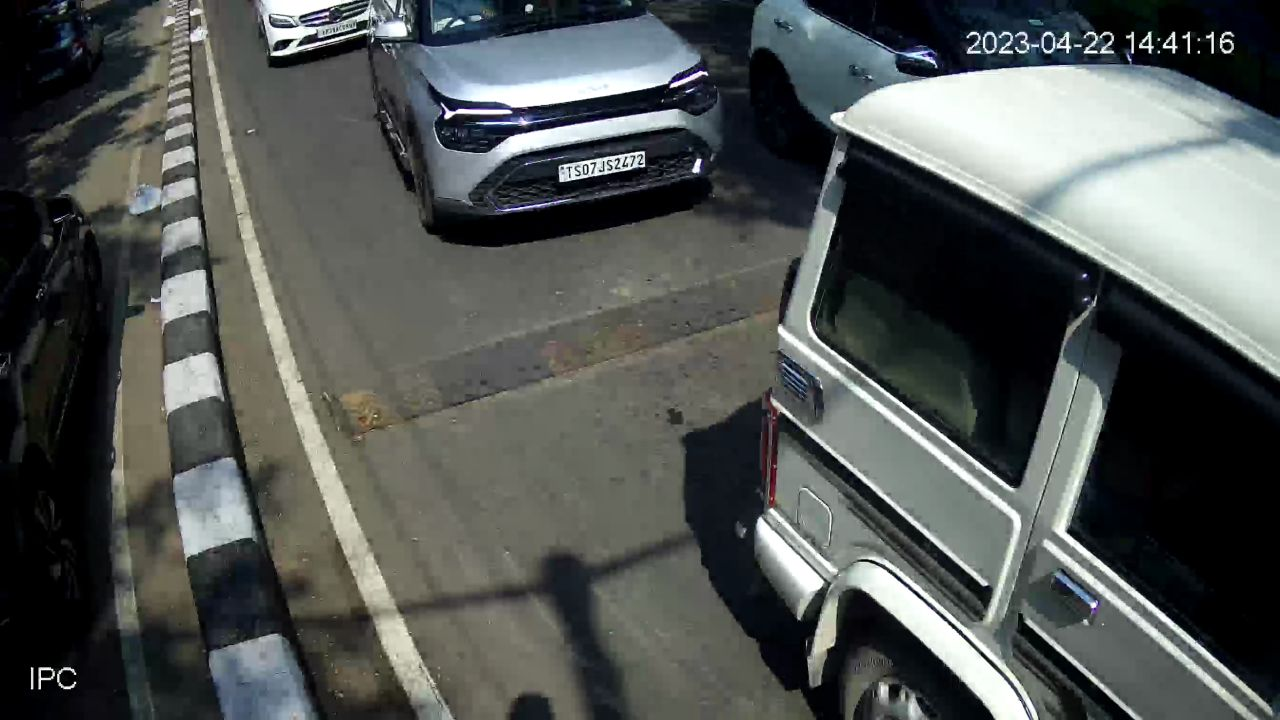license_plate: (553, 147, 648, 185)
